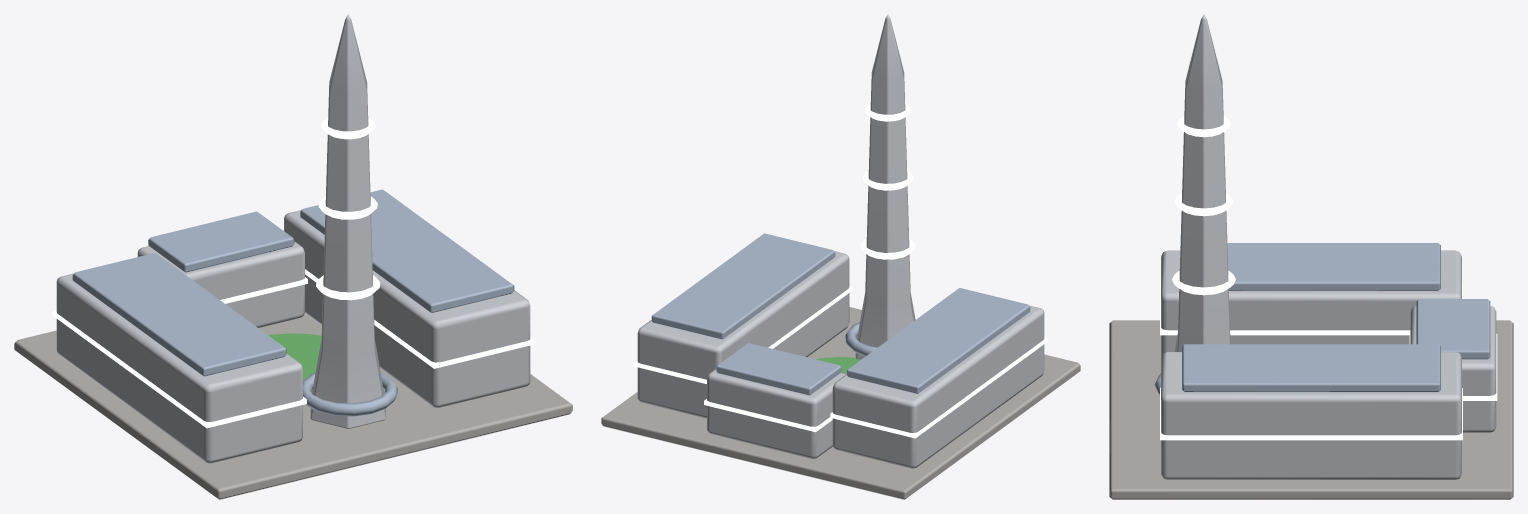
File: campus.glb
3 renders of one model, left to right at view 1: azimuth 30°, elevation 25°; view 2: azimuth 150°, elevation 25°; view 3: azimuth 270°, elevation 25°, orthographic. The views are drawn at different scales.
Visible parts, largest first — view 1: campus; view 2: campus; view 3: campus.
Boxes of the visible parts, left/top/right/bottom form: campus: left=14, top=14, right=572, bottom=499; campus: left=601, top=14, right=1080, bottom=499; campus: left=1109, top=14, right=1513, bottom=499.
Size of the model in its own units: 0.94 by 1.03 by 0.94.
